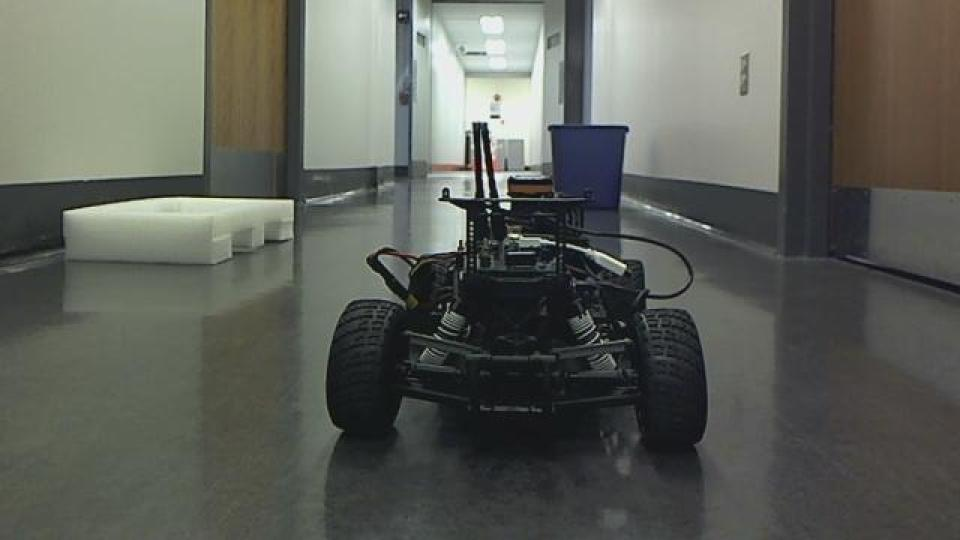car: (322, 118, 711, 452)
